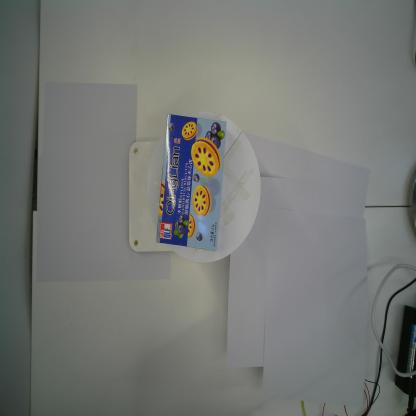Dessert: (156, 113, 226, 252)
